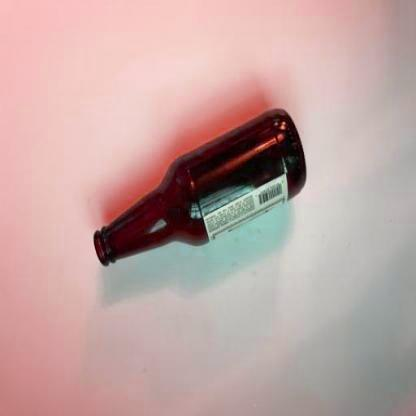Glass: (90, 105, 309, 272)
